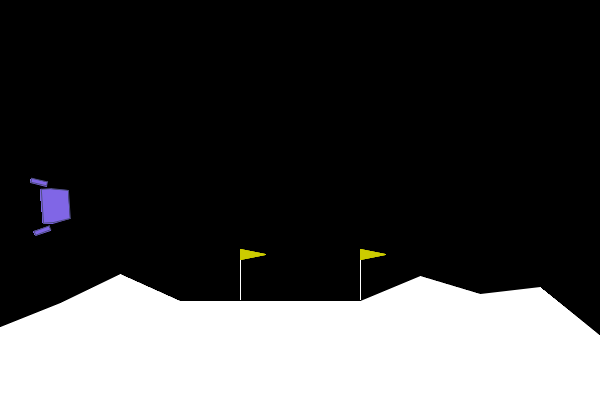lander: (29, 175, 73, 237)
